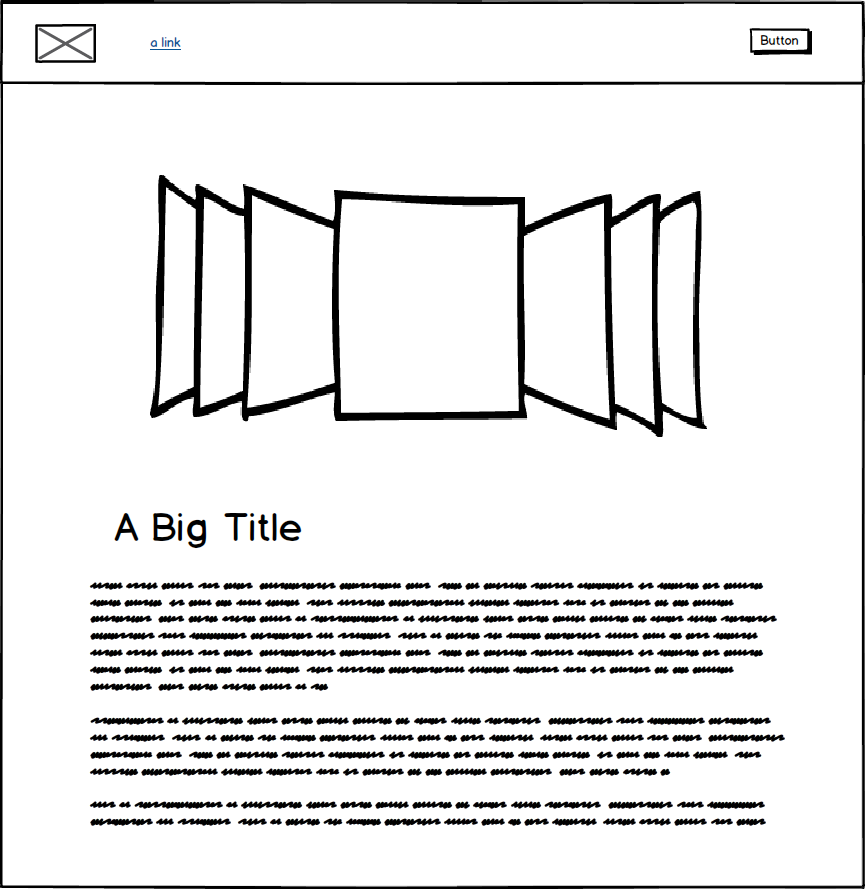button: (747, 23, 818, 59)
h1: (103, 500, 310, 551)
image: (29, 17, 102, 70)
navlink: (147, 38, 184, 48)
p: (90, 577, 794, 833)
slideshow: (148, 171, 710, 448)
